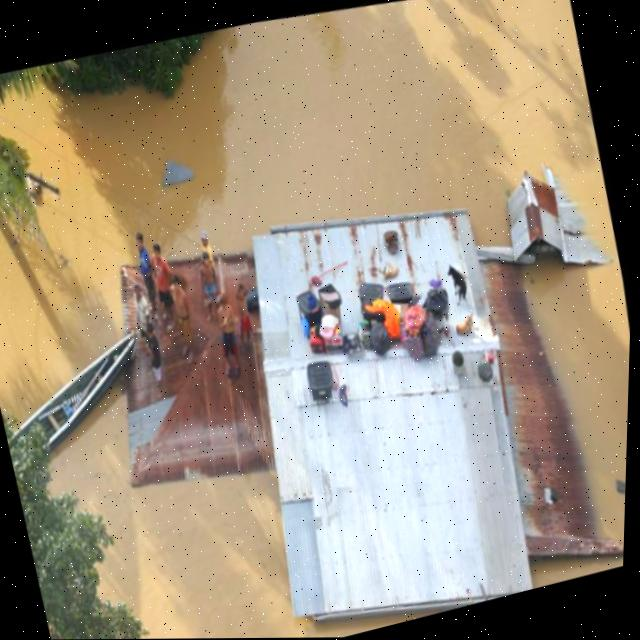civilian: (119, 272, 174, 374), (207, 286, 258, 370), (146, 240, 186, 324), (122, 223, 155, 275), (191, 246, 223, 292), (194, 226, 216, 252)
